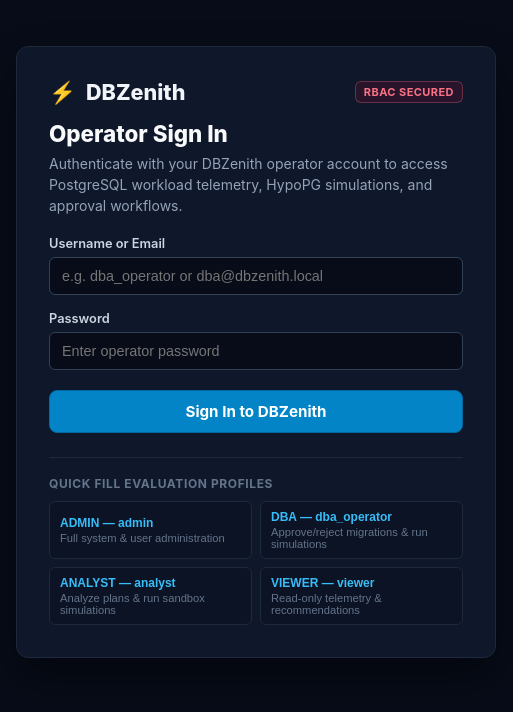
DBZenith Authentication, Session & RBAC Suite › validates login inputs and displays friendly error on failed authentication
The image size is (513, 712).
Step 1. Click the button "Sign In to DBZenith" → (256, 411), box [49,390,463,433]
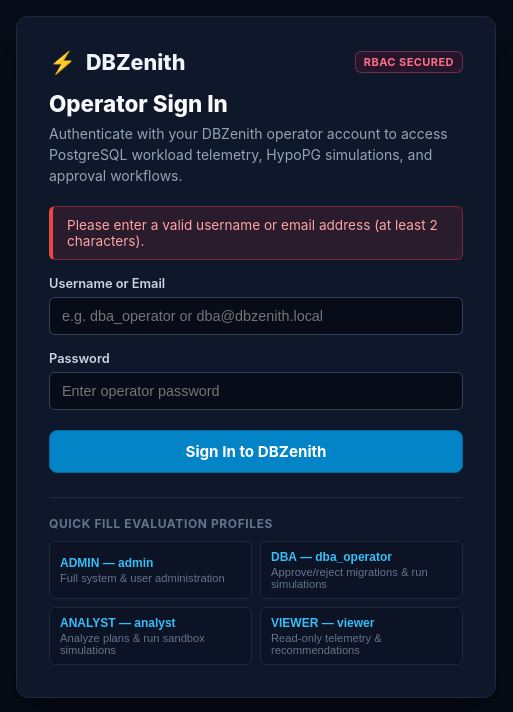
Check: the message shows "valid username or email", box [67,217,438,249]
Step 2. Type "dba_operator" into the field labelled "Username or Email" → (256, 316), box [49,297,463,335]
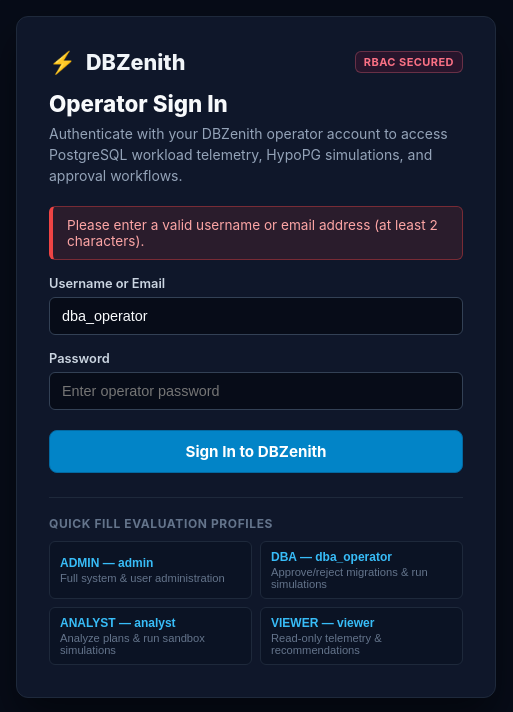
Step 3. Type "wrongpass" into the password field labelled "Password" → (256, 391), box [49,372,463,410]
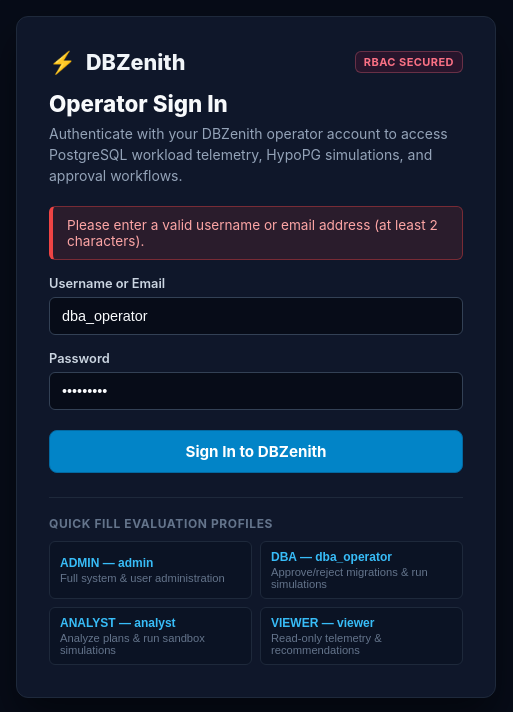
Step 4. Click the button "Sign In to DBZenith" → (256, 451), box [49,430,463,473]
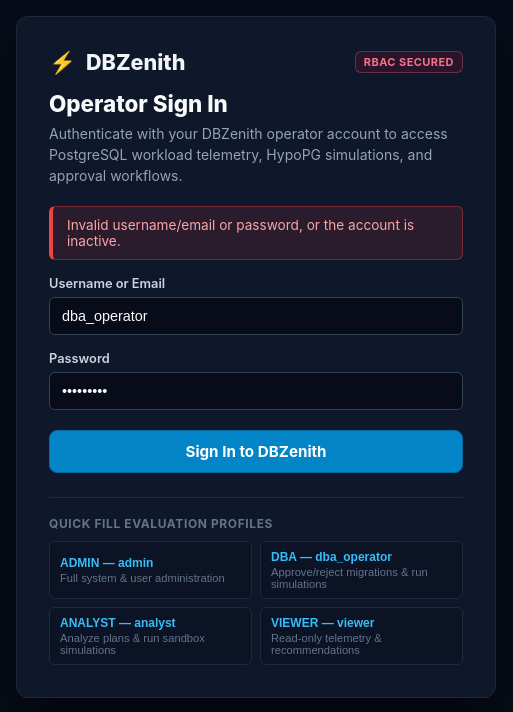
Check: the message shows "Invalid username/email or password", box [67,217,414,249]
